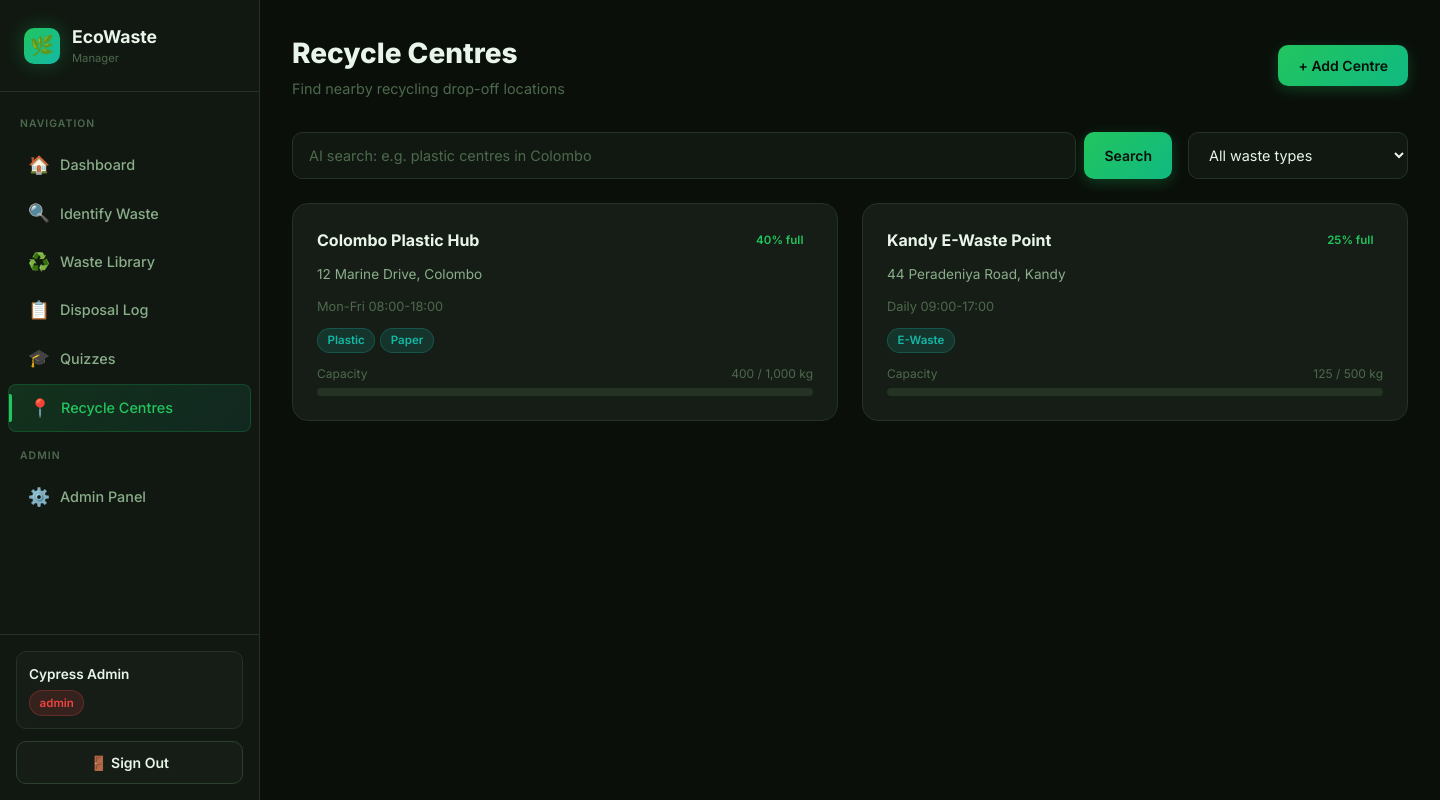
Test: Recycle centres module › deletes a centre and refreshes the list
Step 1. Click the text "Colombo Plastic Hub" → (565, 312), box [292,203,838,421]
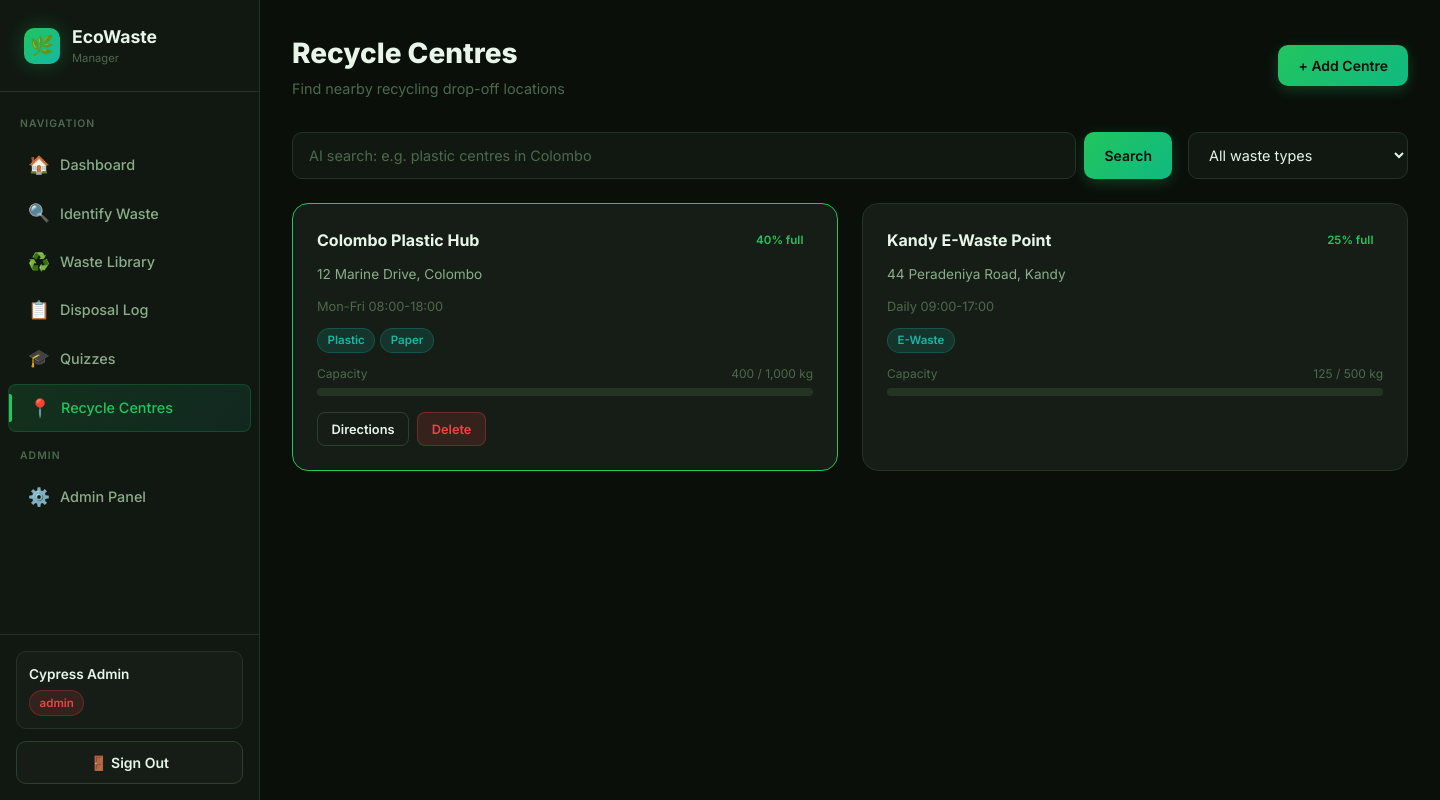
Expected: the button "Delete" is shown
Step 2. Click the button "Delete" → (452, 429), box [417,412,486,446]
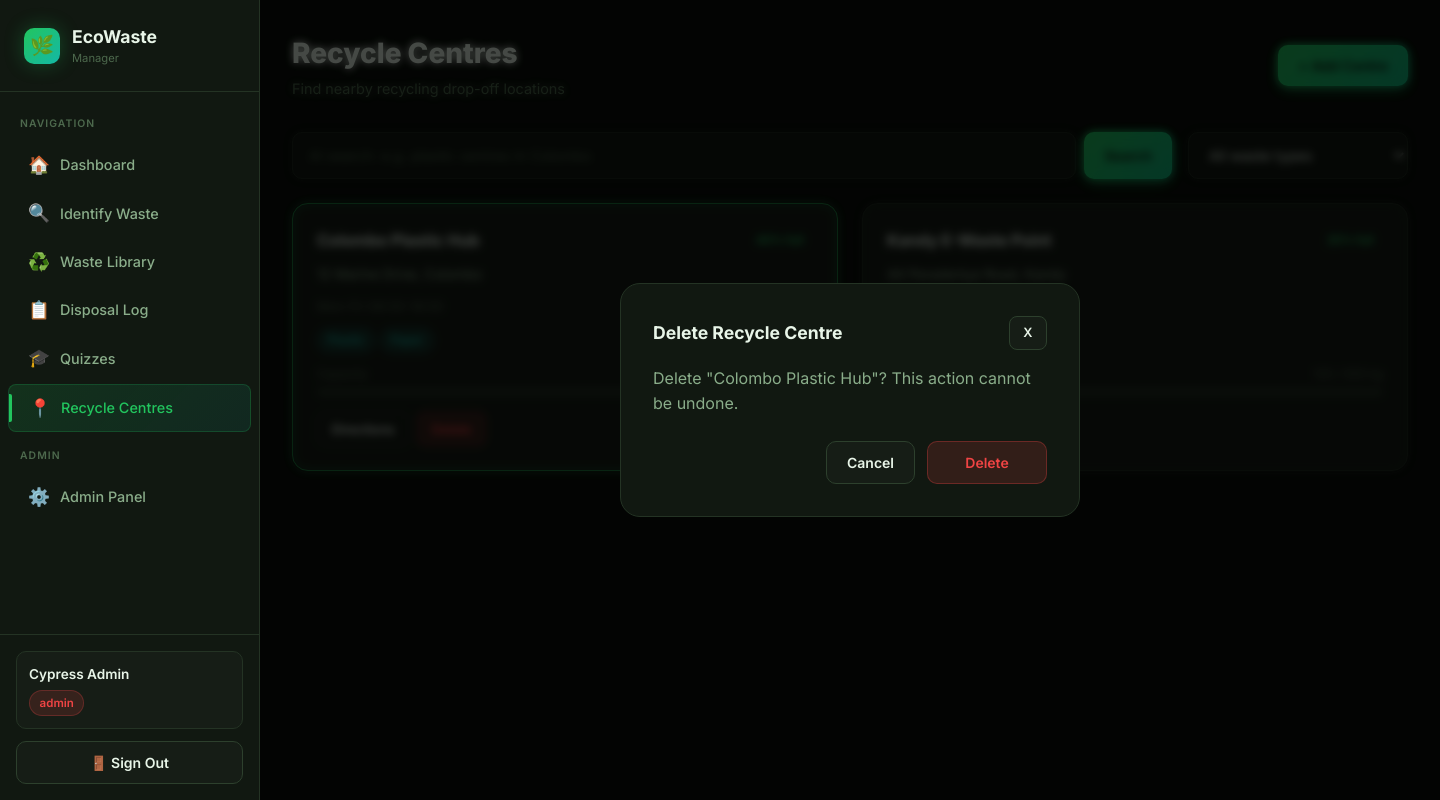
Expected: the heading "Delete Recycle Centre" is shown, [653,320,842,346]
Expected: the text "Delete \"Colombo Plastic Hub\"? This action cannot be undone." is shown, [653,366,1047,417]
Step 3. Click the button "Delete" → (987, 463), box [927,441,1047,484]
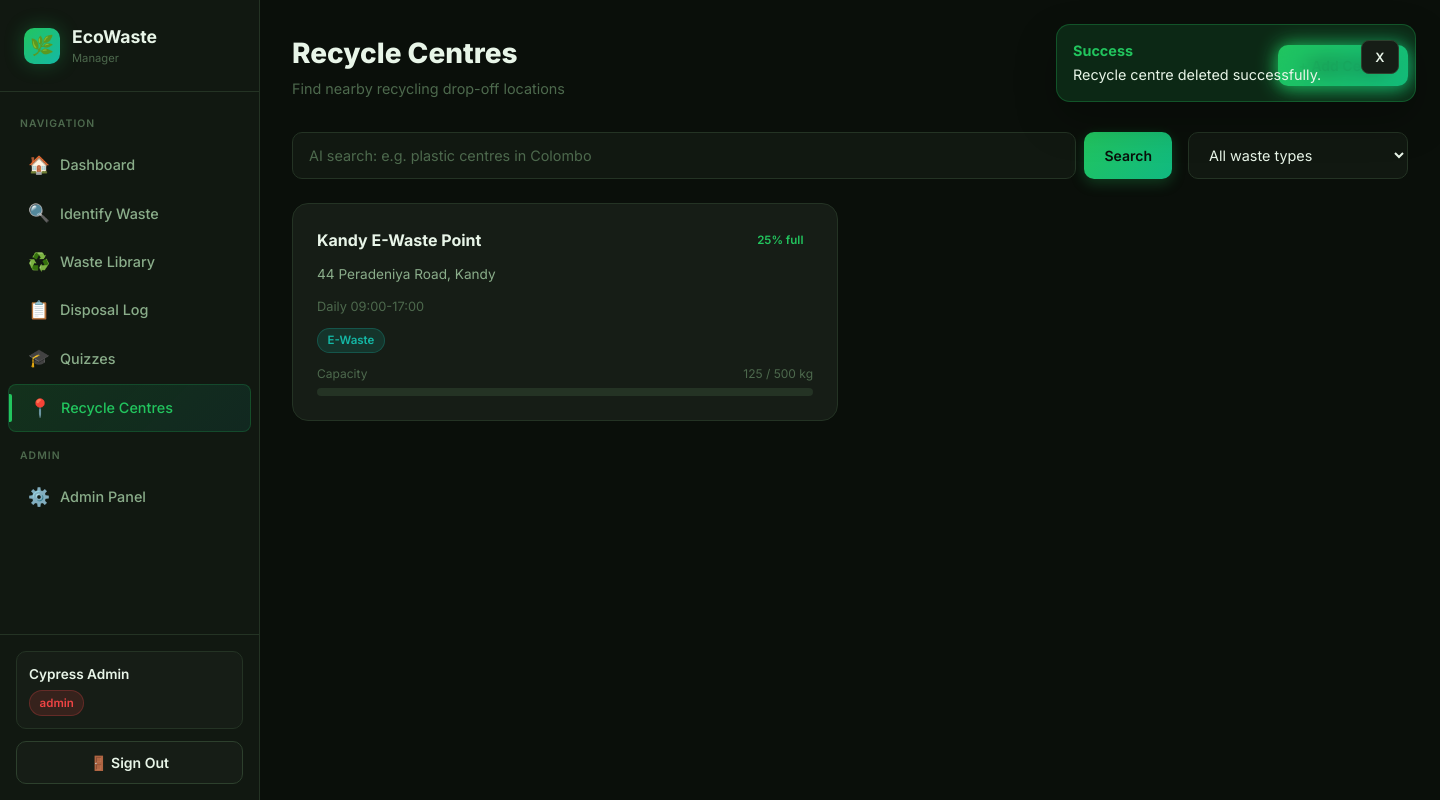
Expected: the heading "Kandy E-Waste Point" is shown, [317,228,481,252]
Expected: the text "Recycle centre deleted successfully." is shown, [1073,65,1321,86]
Expected: the text "Colombo Plastic Hub" is gone
